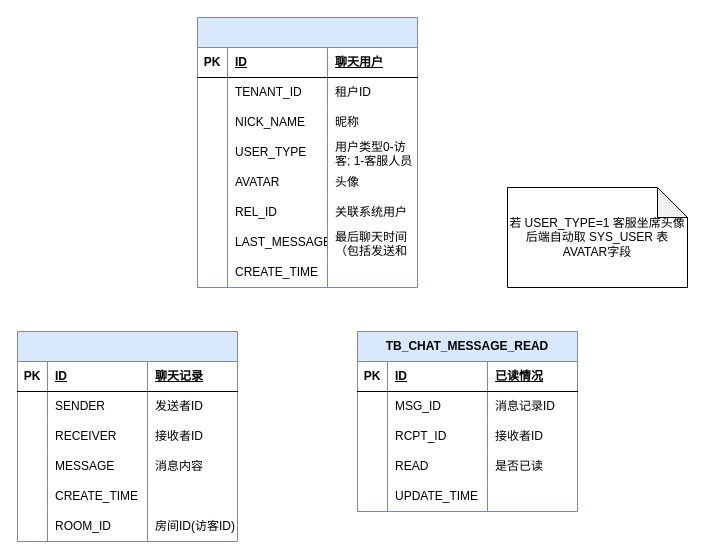
The diagram is 705 pixels wide and 559 high, and some of its shapes have lost their labels. The shapes that lost their labels are listed below. From the top down, each one's box as (x1, y1, x2, y2) in pixels, then its label:
(196, 16, 418, 288): TB_CHAT_USER
(16, 330, 238, 542): TB_CHAT_MESSAGE
